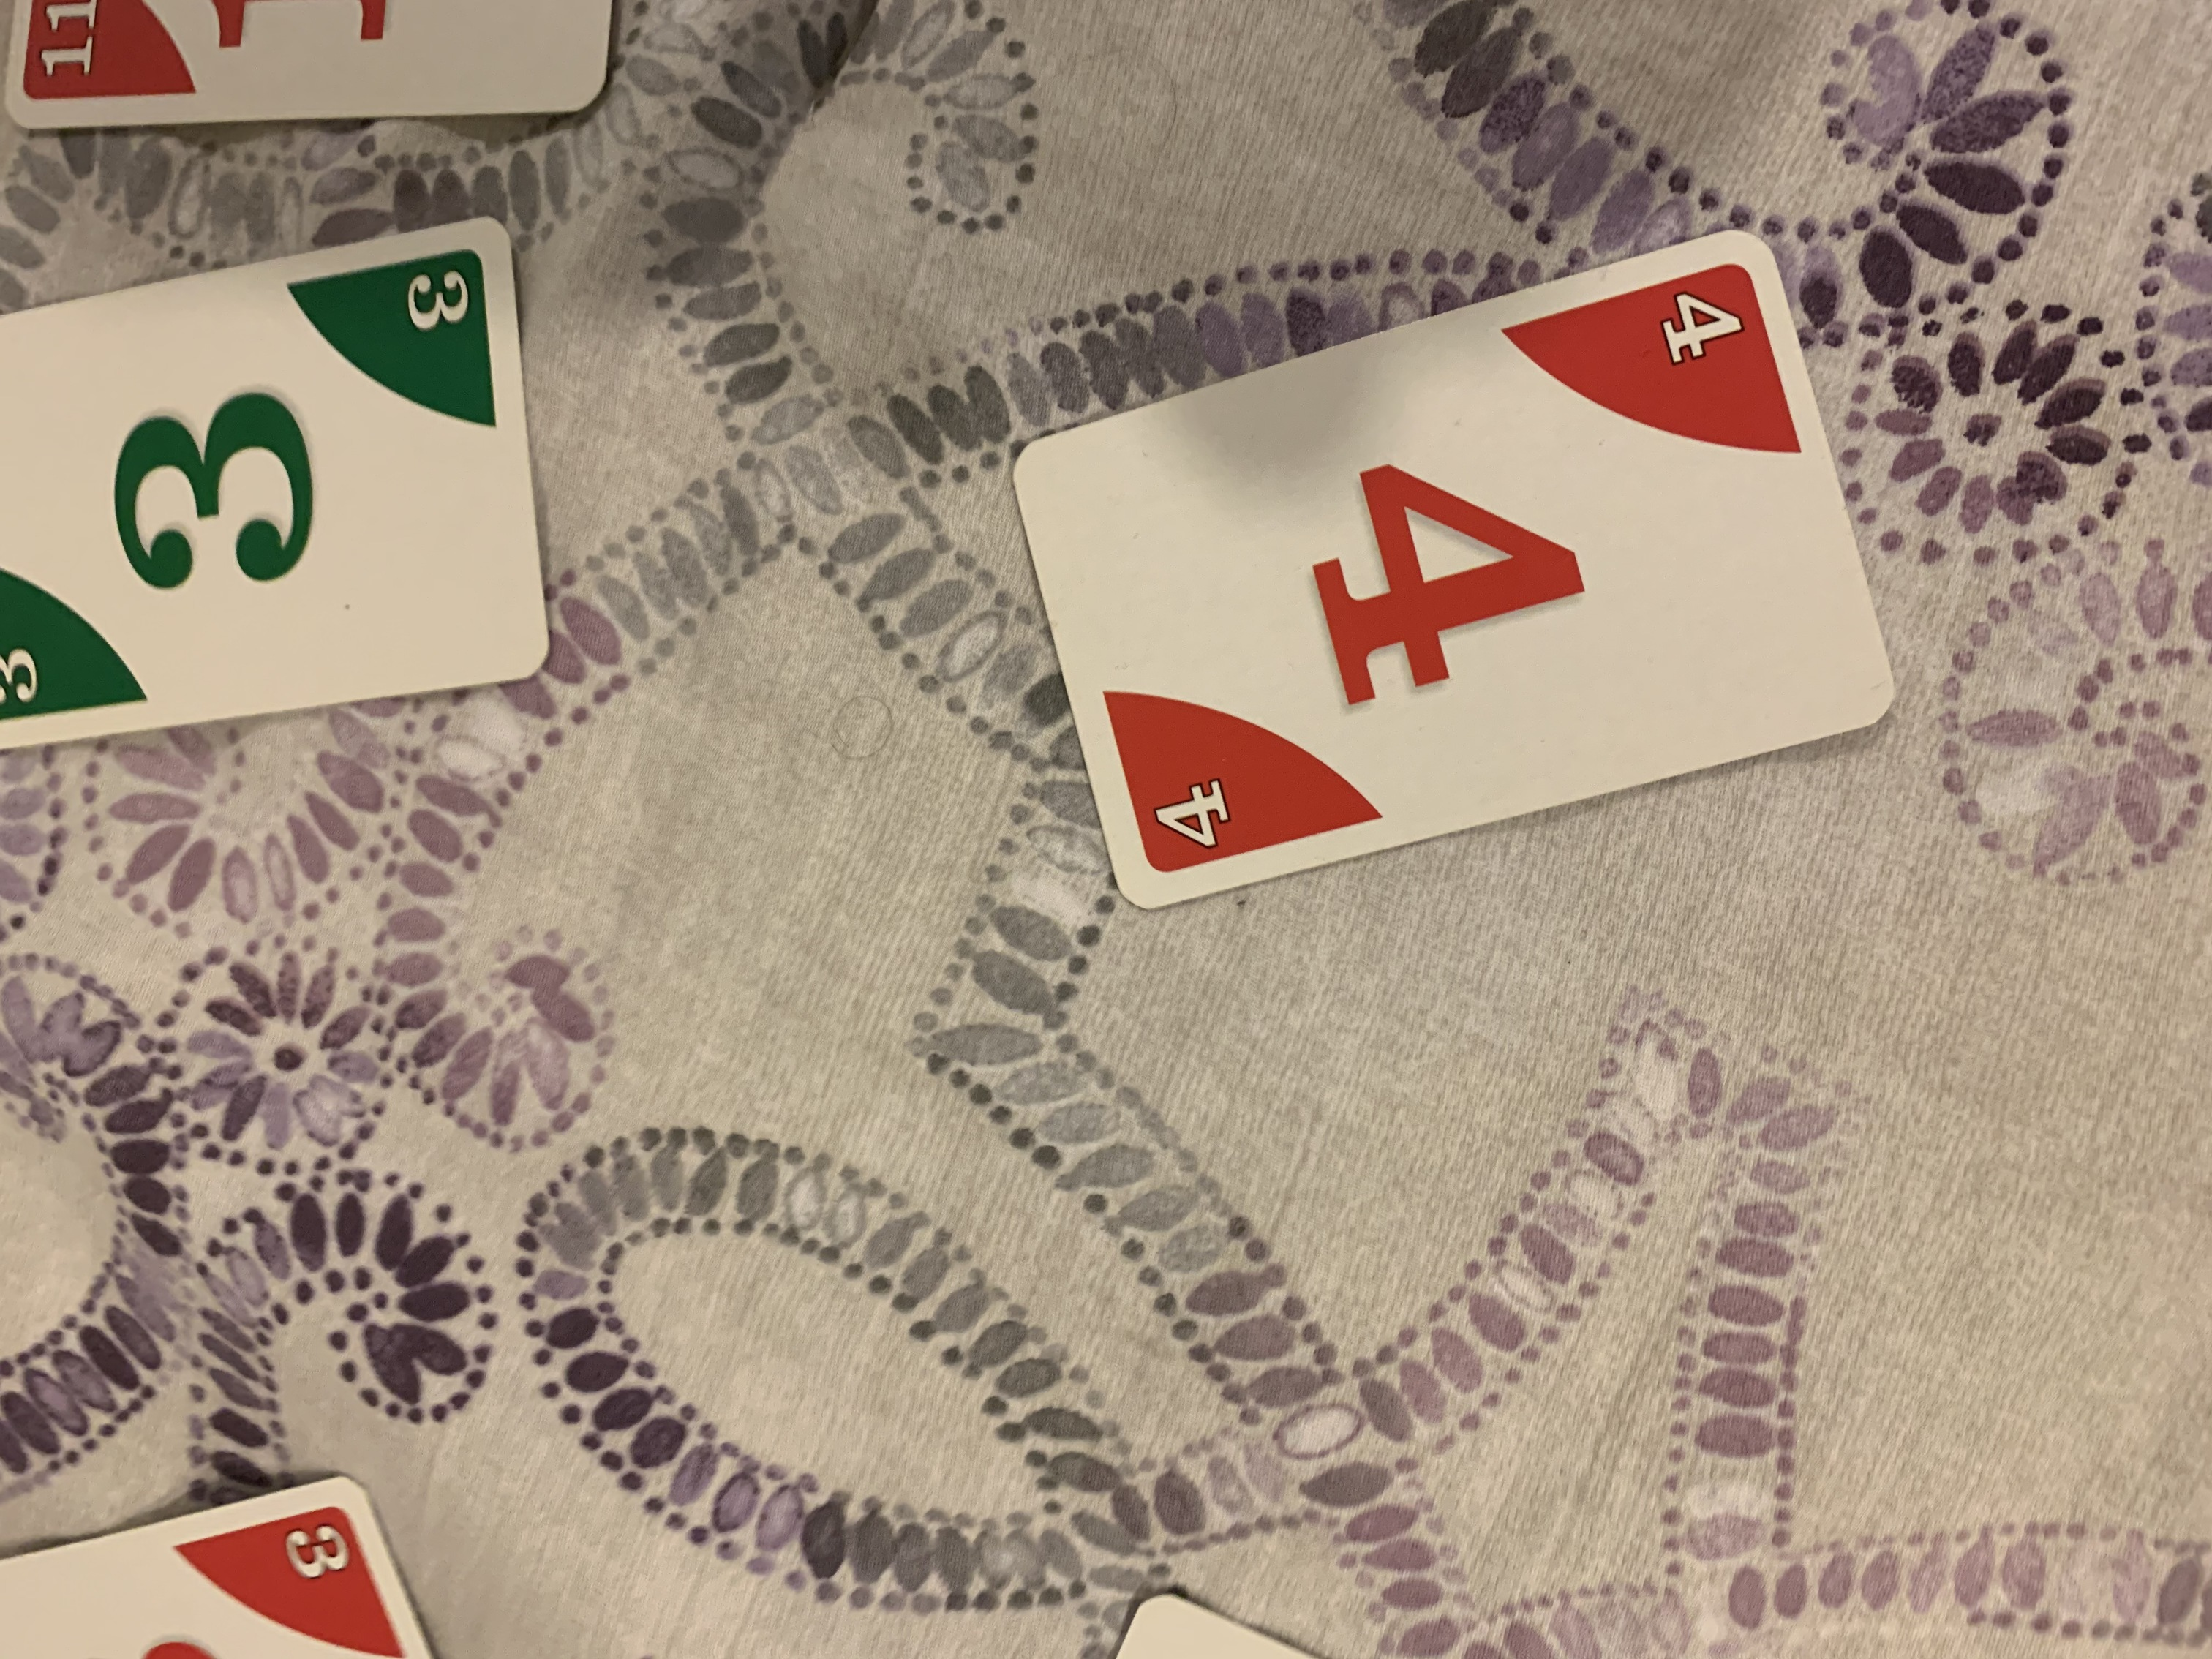four: (1014, 228, 1897, 922)
three: (0, 209, 549, 765)
